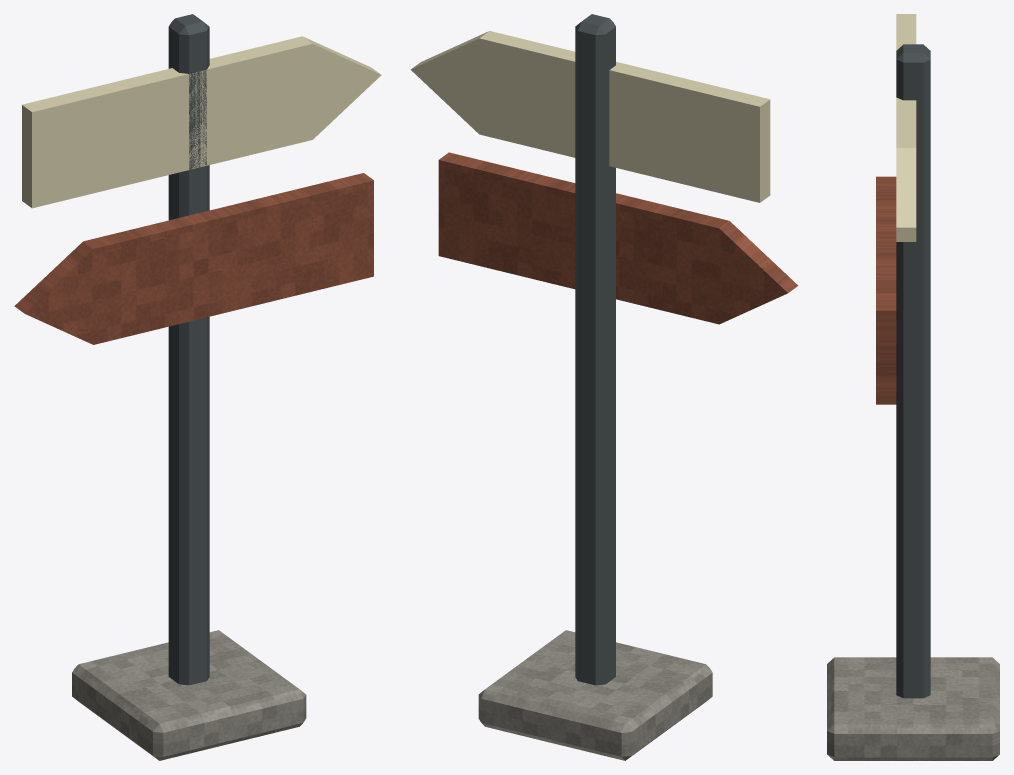
The picture shows the model from 3 angles, left to right: view 1: azimuth 30°, elevation 25°; view 2: azimuth 150°, elevation 25°; view 3: azimuth 270°, elevation 25°; orthographic projection. The views are drawn at different scales.
Visible parts, largest first — view 1: ST2-P06_Mesh; view 2: ST2-P06_Mesh; view 3: ST2-P06_Mesh.
Part boxes in pixels (bbox=[...]): ST2-P06_Mesh: bbox=[14, 14, 381, 760]; ST2-P06_Mesh: bbox=[410, 14, 798, 760]; ST2-P06_Mesh: bbox=[827, 14, 999, 760].
Bounding box in the file's own units: 1.44 × 2.6 × 0.6.
4 materials, 2 textured.
